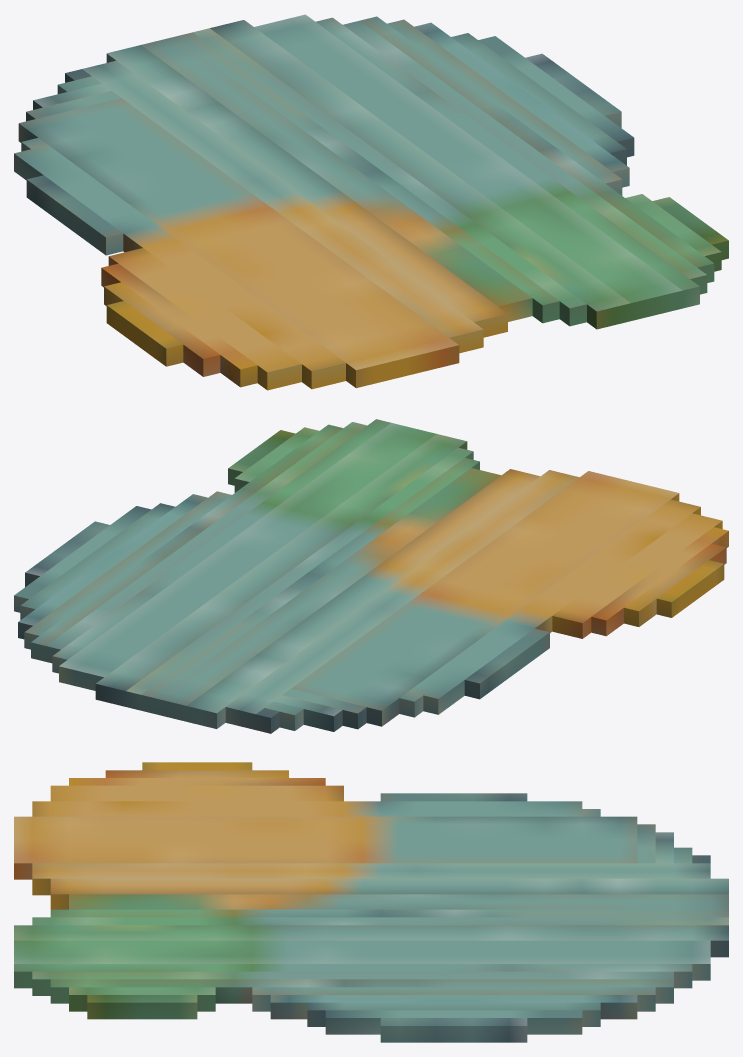
The model's file is RugsSphericalColorful_00.obj.
The picture shows the model from 3 angles, top to bottom: view 1: azimuth 30°, elevation 25°; view 2: azimuth 150°, elevation 25°; view 3: azimuth 270°, elevation 25°; orthographic projection. The views are drawn at different scales.
Visible parts, largest first — view 1: RugsSphericalColorful_00; view 2: RugsSphericalColorful_00; view 3: RugsSphericalColorful_00.
Boxes of the visible parts, x1,y1,x2,y2 form: RugsSphericalColorful_00: [14, 14, 728, 390]; RugsSphericalColorful_00: [14, 419, 728, 733]; RugsSphericalColorful_00: [14, 762, 728, 1042].
Bounding box in the file's own units: 1.7 × 0.05 × 1.95.
